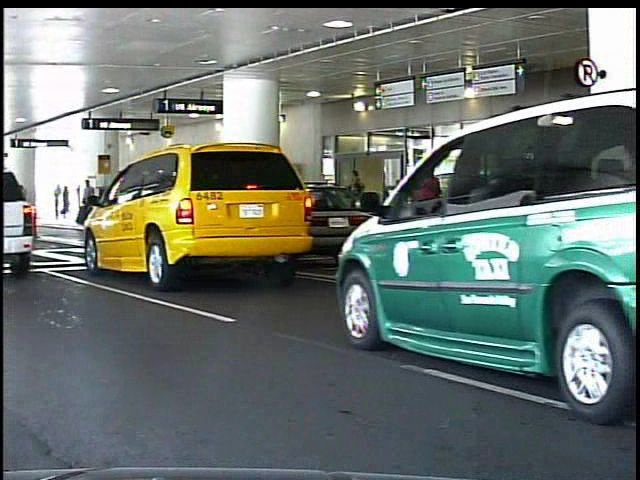person: (345, 167, 372, 244), (81, 178, 99, 228), (63, 184, 76, 224), (58, 183, 68, 223)
